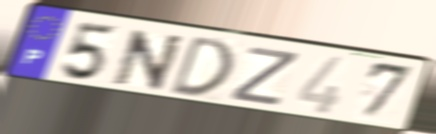4: (294, 54, 344, 117)
5: (58, 19, 123, 82)
7: (359, 59, 418, 124)
D: (166, 34, 236, 98)
N: (110, 28, 188, 93)
Z: (226, 44, 304, 108)
